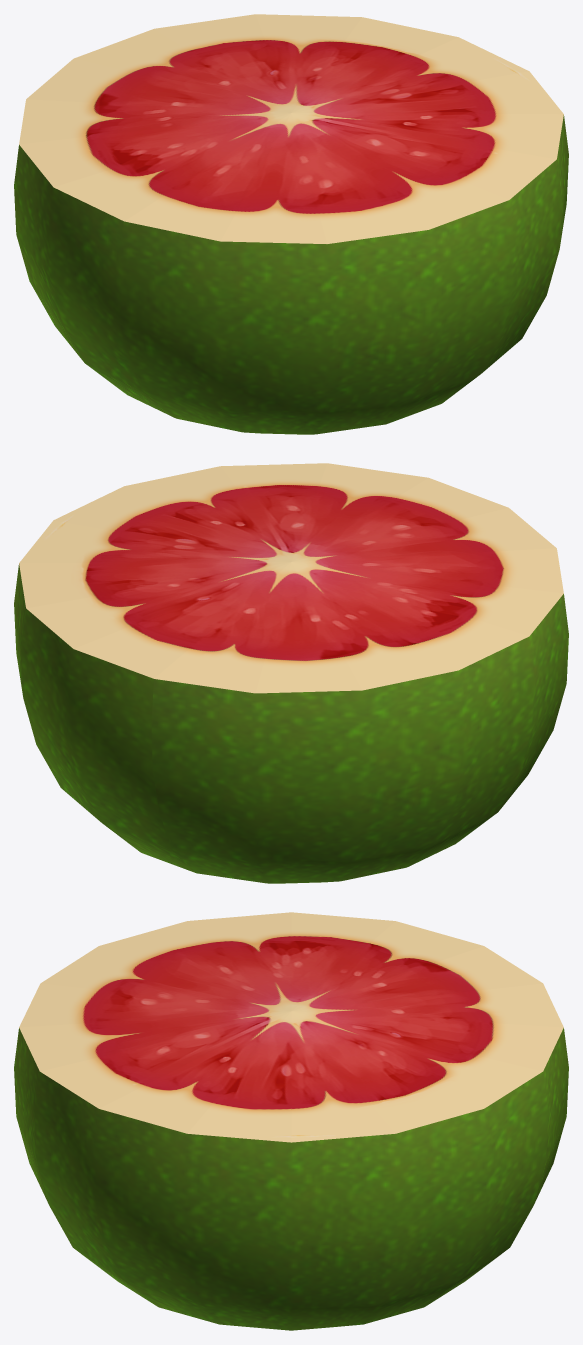
Rendered from Pomelo_Green_Half.fbx.
The picture shows the model from 3 angles, top to bottom: view 1: azimuth 30°, elevation 25°; view 2: azimuth 150°, elevation 25°; view 3: azimuth 270°, elevation 25°; orthographic projection.
Parts seen in each view (by area): view 1: Pomelo_Green_Half; view 2: Pomelo_Green_Half; view 3: Pomelo_Green_Half.
Part boxes in pixels (left/top/right/bottom): Pomelo_Green_Half: left=14, top=14, right=568, bottom=434; Pomelo_Green_Half: left=14, top=463, right=568, bottom=883; Pomelo_Green_Half: left=14, top=912, right=568, bottom=1330.
Size of the model in its own units: 45.63 by 25.77 by 45.63.
